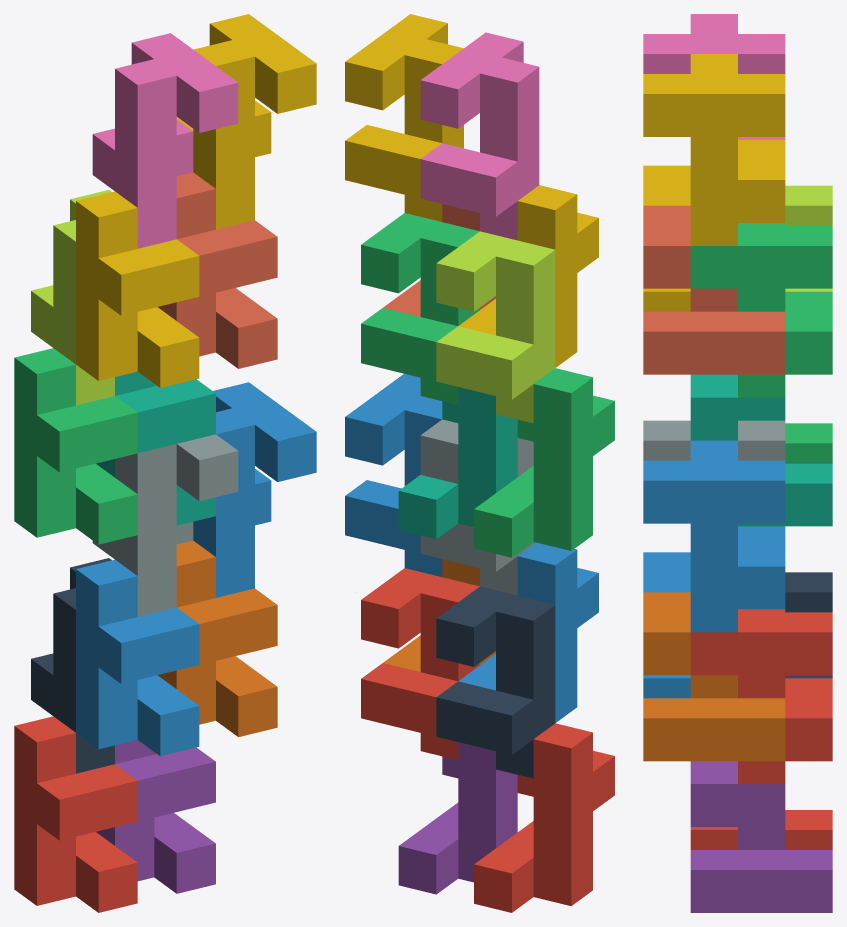
File: tiling.obj
The picture shows the model from 3 angles, left to right: view 1: azimuth 30°, elevation 25°; view 2: azimuth 150°, elevation 25°; view 3: azimuth 270°, elevation 25°; orthographic projection. The views are drawn at different scales.
Parts seen in each view (by area): view 1: copy_1_domain_1, copy_1_domain_3, copy_1_domain_2, copy_1_domain_4, copy_2_domain_4, copy_2_domain_8, copy_1_domain_8, copy_1_domain_6, copy_2_domain_6, copy_2_domain_2, copy_1_domain_5, copy_1_domain_7 (+2 smaller); view 2: copy_2_domain_4, copy_2_domain_1, copy_2_domain_3, copy_1_domain_3, copy_1_domain_1, copy_2_domain_8, copy_2_domain_7, copy_2_domain_5, copy_2_domain_6, copy_1_domain_5, copy_1_domain_7, copy_1_domain_4 (+4 smaller); view 3: copy_2_domain_6, copy_2_domain_8, copy_1_domain_5, copy_2_domain_5, copy_2_domain_7, copy_1_domain_6, copy_1_domain_8, copy_1_domain_7, copy_2_domain_4, copy_2_domain_2, copy_1_domain_2, copy_1_domain_4 (+4 smaller).
Boxes of the visible parts, x1,y1,x2,y2 form: copy_1_domain_1: (14, 716, 137, 912); copy_1_domain_3: (14, 348, 137, 544); copy_1_domain_2: (76, 559, 199, 756); copy_1_domain_4: (76, 191, 199, 387); copy_2_domain_4: (92, 33, 238, 248); copy_2_domain_8: (176, 14, 316, 229); copy_1_domain_8: (158, 172, 277, 368); copy_1_domain_6: (158, 540, 277, 736); copy_2_domain_6: (193, 382, 316, 597); copy_2_domain_2: (92, 434, 238, 616); copy_1_domain_5: (96, 740, 215, 893); copy_1_domain_7: (96, 371, 215, 525); copy_2_domain_4: (420, 32, 539, 240); copy_2_domain_1: (436, 586, 555, 778); copy_2_domain_3: (436, 231, 555, 423); copy_1_domain_3: (474, 368, 614, 557); copy_1_domain_1: (474, 723, 614, 912); copy_2_domain_8: (345, 14, 463, 221); copy_2_domain_7: (361, 213, 479, 404); copy_2_domain_5: (361, 568, 479, 759); copy_2_domain_6: (345, 373, 442, 576); copy_1_domain_5: (398, 742, 517, 894); copy_1_domain_7: (398, 387, 517, 539); copy_1_domain_4: (458, 185, 598, 367); copy_2_domain_6: (643, 440, 785, 632); copy_2_domain_8: (643, 54, 785, 245); copy_1_domain_5: (690, 761, 832, 912); copy_2_domain_5: (690, 609, 832, 783); copy_2_domain_7: (690, 223, 832, 397); copy_1_domain_6: (643, 592, 785, 761); copy_1_domain_8: (643, 205, 785, 374); copy_1_domain_7: (690, 374, 832, 526); copy_2_domain_4: (643, 14, 785, 139); copy_2_domain_2: (643, 420, 785, 460); copy_1_domain_2: (643, 552, 690, 698); copy_1_domain_4: (643, 165, 690, 311).
Size of the model in its own units: 6 by 20 by 4.
